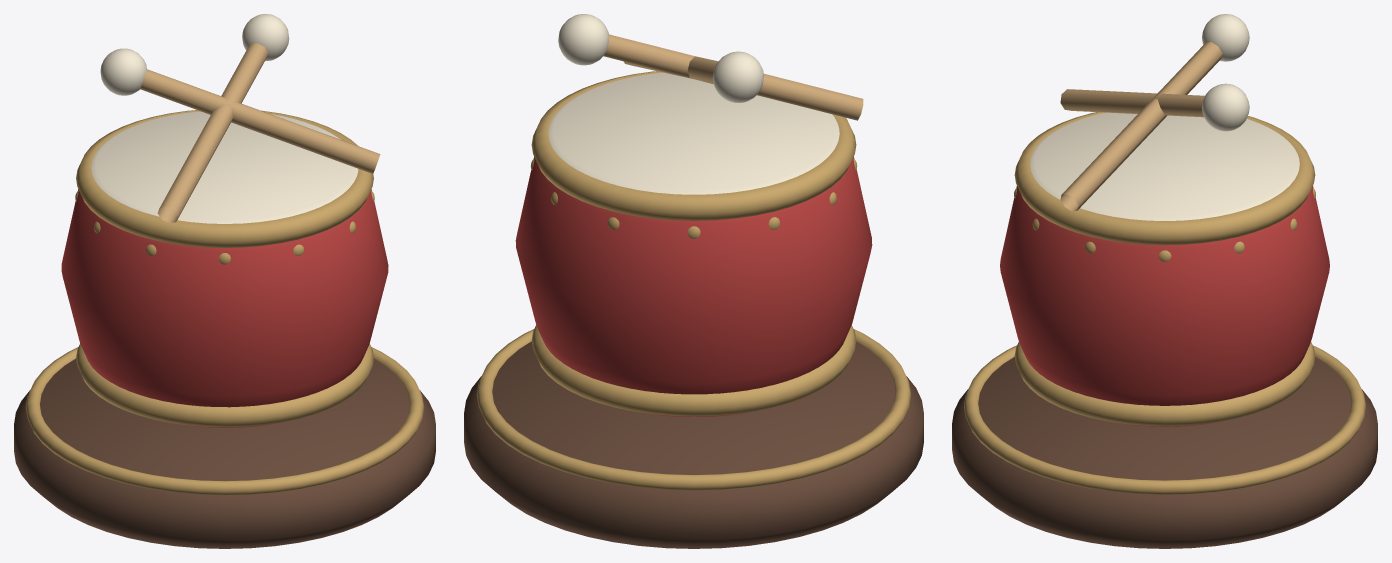
The model's file is chorus.glb.
The picture shows the model from 3 angles, left to right: view 1: azimuth 30°, elevation 25°; view 2: azimuth 150°, elevation 25°; view 3: azimuth 270°, elevation 25°; orthographic projection. The views are drawn at different scales.
Parts seen in each view (by area): view 1: chorus_Vermilion braided silk, chorus_Walnut carved edge, chorus_Brushed champagne brass, chorus_Porcelain warm ivory, chorus_Golden bamboo grain; view 2: chorus_Vermilion braided silk, chorus_Walnut carved edge, chorus_Porcelain warm ivory, chorus_Brushed champagne brass, chorus_Golden bamboo grain; view 3: chorus_Vermilion braided silk, chorus_Walnut carved edge, chorus_Brushed champagne brass, chorus_Porcelain warm ivory, chorus_Golden bamboo grain.
Part boxes in pixels (box(x1,y1,x2,y2)): chorus_Vermilion braided silk: box(61, 189, 388, 427); chorus_Walnut carved edge: box(14, 358, 435, 548); chorus_Brushed champagne brass: box(25, 110, 424, 495); chorus_Porcelain warm ivory: box(91, 14, 358, 223); chorus_Golden bamboo grain: box(140, 43, 380, 223); chorus_Vermilion braided silk: box(515, 156, 872, 416); chorus_Walnut carved edge: box(464, 341, 923, 548); chorus_Porcelain warm ivory: box(548, 14, 839, 194); chorus_Brushed champagne brass: box(476, 71, 911, 490); chorus_Golden bamboo grain: box(603, 34, 863, 120); chorus_Vermilion braided silk: box(1000, 186, 1329, 426); chorus_Walnut carved edge: box(952, 357, 1377, 548); chorus_Brushed champagne brass: box(964, 112, 1365, 494); chorus_Porcelain warm ivory: box(1030, 14, 1299, 220); chorus_Golden bamboo grain: box(1060, 42, 1222, 211).
Bounding box in the file's own units: 0.98 × 1.05 × 0.98.
